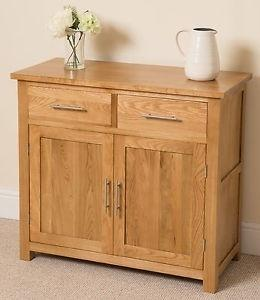cabinet_door: (116, 140, 207, 262), (27, 132, 112, 251), (117, 97, 208, 140), (25, 86, 113, 124)
handle: (142, 112, 183, 125), (50, 102, 87, 116), (103, 178, 112, 214), (115, 180, 121, 215)
